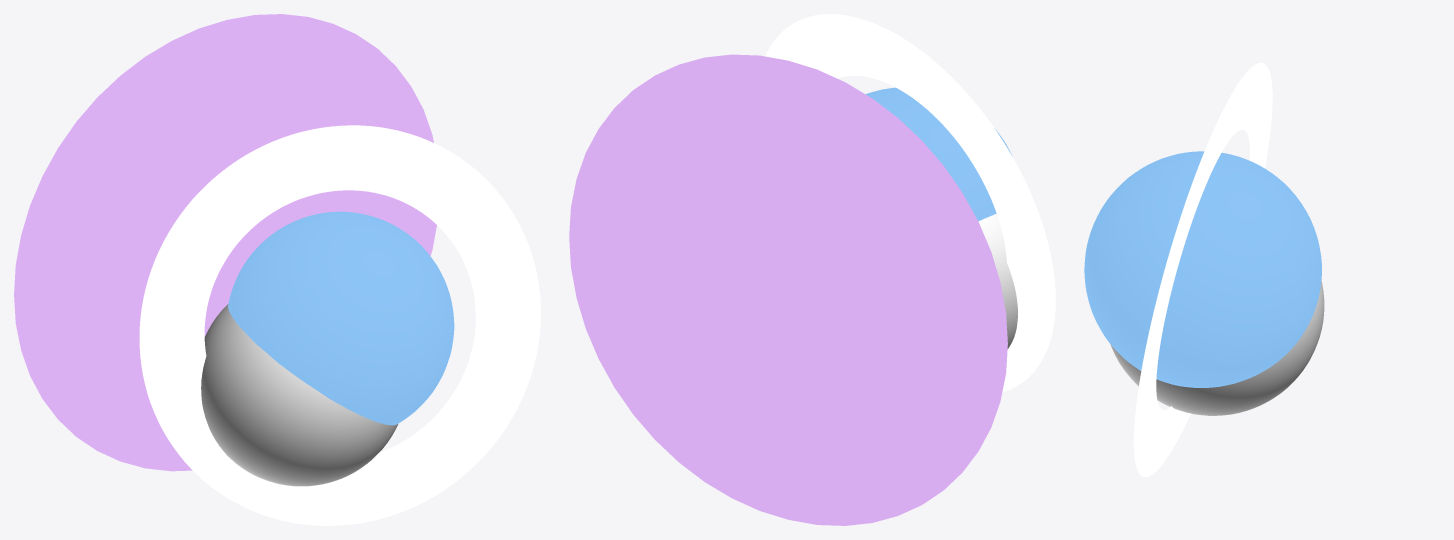
File: planete.glb
3 views of the same model, side by side, from view 1: azimuth 30°, elevation 25°; view 2: azimuth 150°, elevation 25°; view 3: azimuth 270°, elevation 25° (orthographic). The views are drawn at different scales.
Parts seen in each view (by area): view 1: lueur, anneaux, atmosphere, globe; view 2: lueur, anneaux, atmosphere, globe; view 3: atmosphere, anneaux, globe.
Part boxes in pixels (<box>): lueur: <box>14,14,436,471</box>; anneaux: <box>139,125,540,525</box>; atmosphere: <box>228,211,454,425</box>; globe: <box>201,304,398,486</box>; lueur: <box>569,54,1007,525</box>; anneaux: <box>765,14,1055,392</box>; atmosphere: <box>865,87,1012,221</box>; globe: <box>978,214,1017,348</box>; atmosphere: <box>1084,151,1321,387</box>; anneaux: <box>1133,62,1272,477</box>; globe: <box>1110,280,1324,415</box>.
Bounding box in the file's own units: 4.4 × 4.4 × 3.05.
